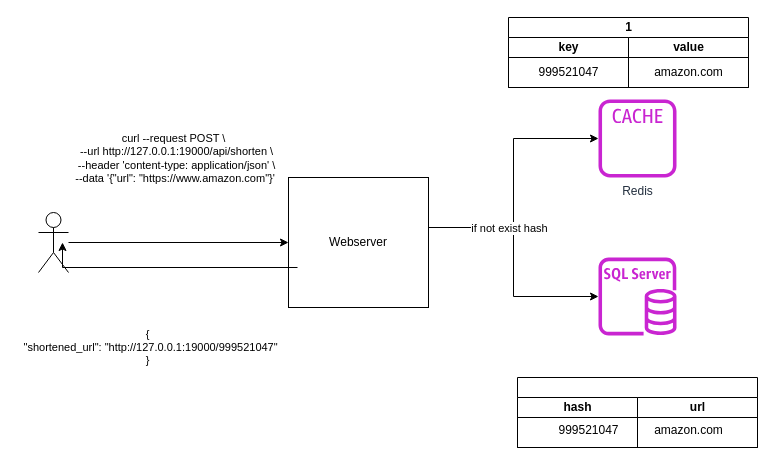
This 775x465 diagram has some shape labels left out. The shapes that lost their labels are listed below. From the top down, each one's box as (x1, y1, x2, y2) in pixels, then its label:
(38, 212, 68, 272): Actor
(598, 257, 676, 335): SQLite
(516, 376, 758, 448): shorten.db
